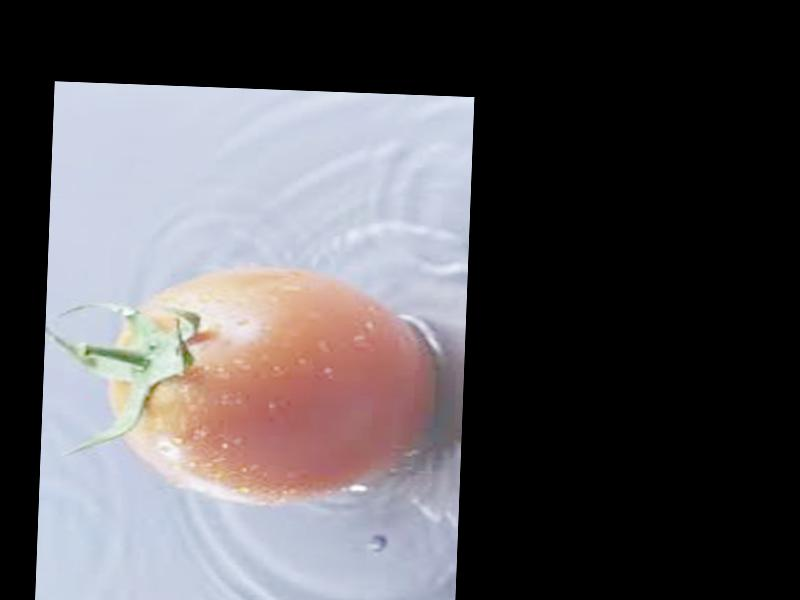Tomato: (106, 262, 439, 508)
